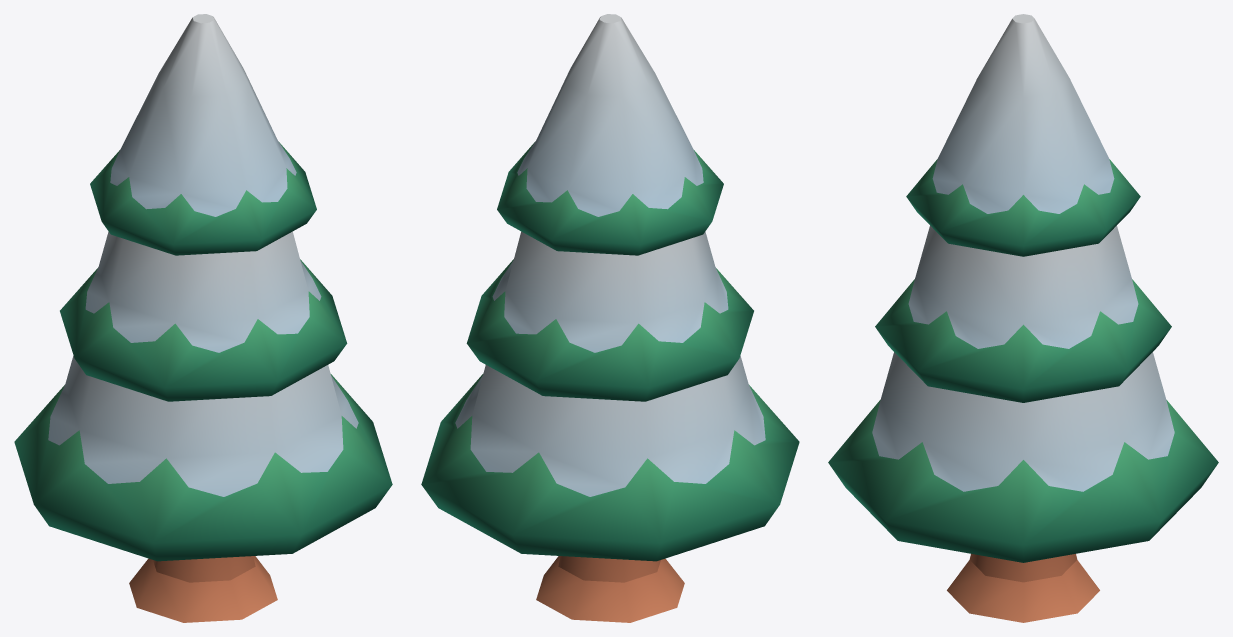
The model's file is pinheiro-neve.glb.
3 views of the same model, side by side, from view 1: azimuth 30°, elevation 25°; view 2: azimuth 150°, elevation 25°; view 3: azimuth 270°, elevation 25° (orthographic).
Visible parts, largest first — view 1: modelo; view 2: modelo; view 3: modelo.
Part boxes in pixels (box(x1,y1,x2,y2)): modelo: box(14, 14, 392, 622); modelo: box(421, 14, 799, 622); modelo: box(828, 14, 1218, 622).
Bounding box in the file's own units: 1.63 × 2.62 × 1.63.
